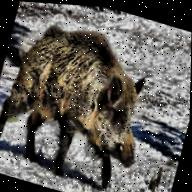boar: (0, 11, 175, 192)
